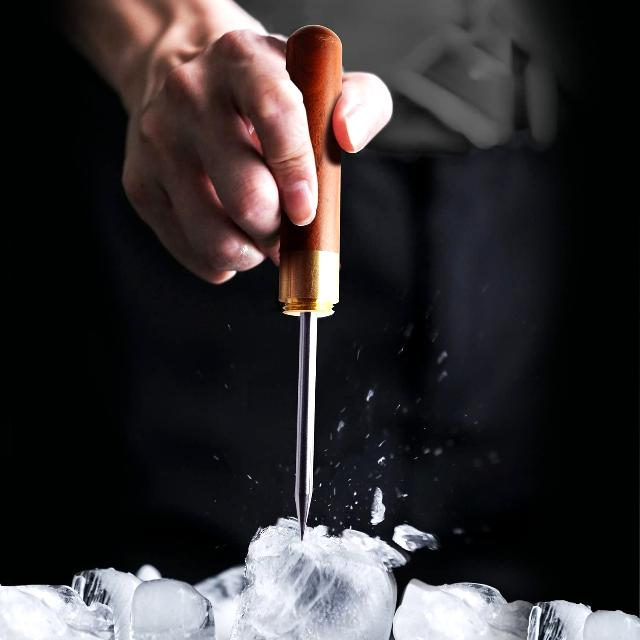ice pick: (275, 24, 343, 542)
